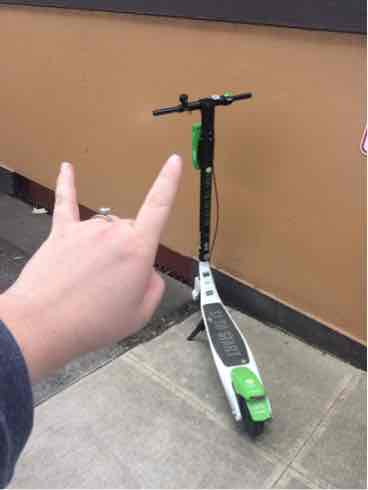scooter: (149, 85, 289, 438)
